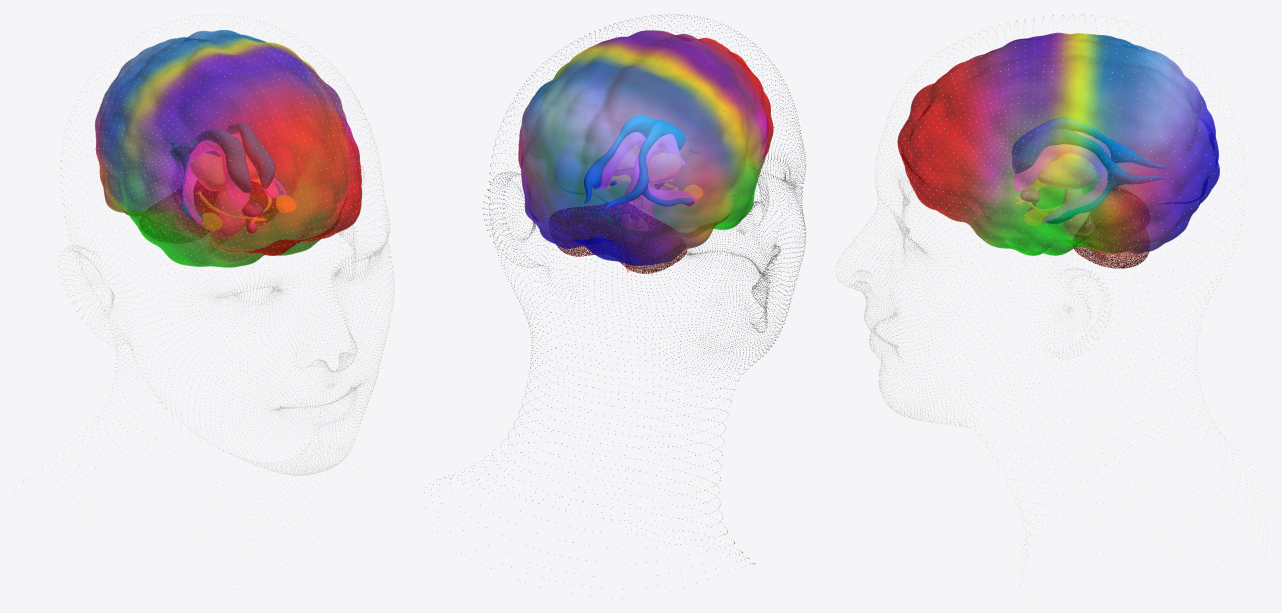
3 renders of one model, left to right at view 1: azimuth 30°, elevation 25°; view 2: azimuth 150°, elevation 25°; view 3: azimuth 270°, elevation 25°, orthographic. The views are drawn at different scales.
Parts seen in each view (by area): view 1: uu.001, uu.012, uu.009, uu.005, uu.002, uu.006; view 2: uu.001, uu.012, uu.002, uu.009, uu.005, uu.006, uu.011; view 3: uu.001, uu.012, uu.009, uu.002, uu.005, uu.011.
Part boxes in pixels (bbox=[...]): uu.001: bbox=[95, 30, 362, 267]; uu.012: bbox=[14, 14, 394, 598]; uu.009: bbox=[170, 123, 283, 221]; uu.005: bbox=[190, 153, 259, 238]; uu.002: bbox=[144, 180, 275, 236]; uu.006: bbox=[183, 140, 249, 226]; uu.001: bbox=[518, 30, 773, 265]; uu.012: bbox=[423, 14, 806, 598]; uu.002: bbox=[550, 202, 687, 273]; uu.009: bbox=[584, 116, 694, 208]; uu.005: bbox=[608, 144, 681, 272]; uu.006: bbox=[634, 134, 696, 201]; uu.011: bbox=[598, 132, 658, 189]; uu.001: bbox=[897, 32, 1219, 255]; uu.012: bbox=[835, 14, 1267, 598]; uu.009: bbox=[1012, 117, 1165, 223]; uu.002: bbox=[1073, 187, 1149, 268]; uu.005: bbox=[1037, 154, 1105, 261]; uu.011: bbox=[1014, 144, 1107, 222].
Size of the model in its own units: 0.8129 by 1.33 by 0.9595.
9 materials, 1 textured.
